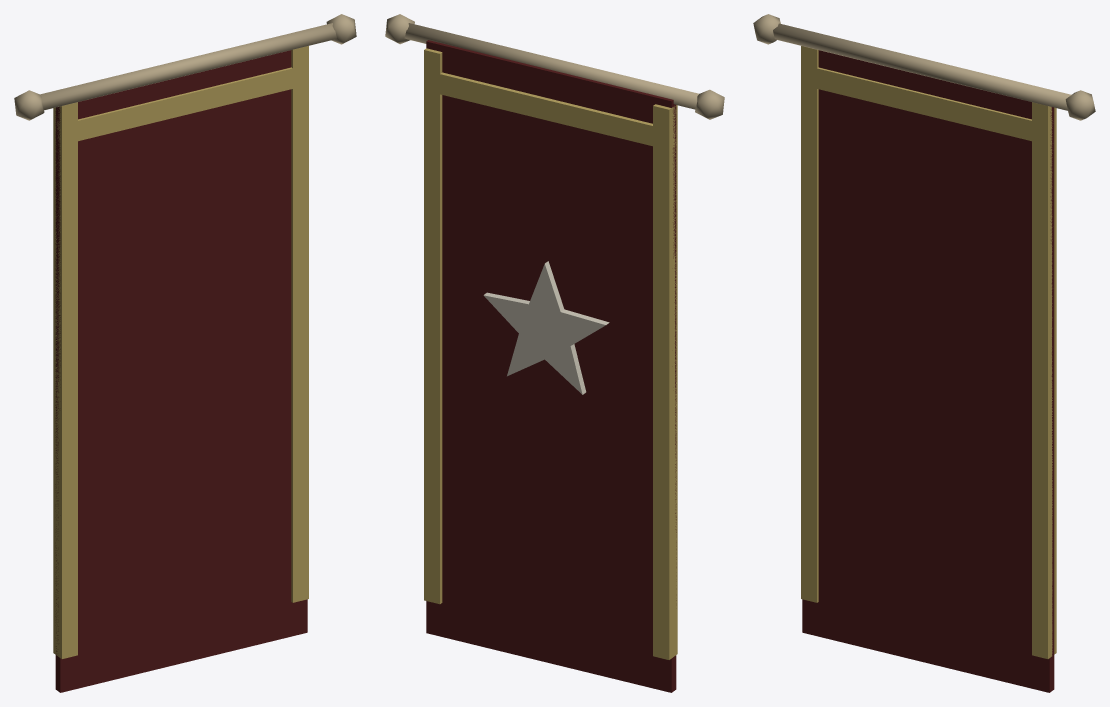
The model's file is tesla_turret_banner_v0.glb.
3 renders of one model, left to right at view 1: azimuth 30°, elevation 25°; view 2: azimuth 150°, elevation 25°; view 3: azimuth 330°, elevation 25°, orthographic.
Parts seen in each view (by area): view 1: tesla_turret_banner_v0; view 2: tesla_turret_banner_v0; view 3: tesla_turret_banner_v0.
Part boxes in pixels (x1=…): tesla_turret_banner_v0: x1=14, y1=14, x2=356, y2=692; tesla_turret_banner_v0: x1=385, y1=14, x2=724, y2=692; tesla_turret_banner_v0: x1=753, y1=14, x2=1095, y2=692.
Size of the model in its own units: 1.04 by 1.8 by 0.0933.
